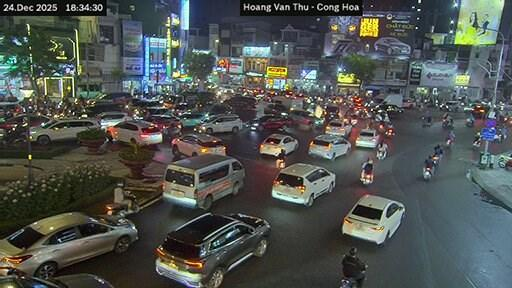motorbike: (105, 190, 137, 216), (3, 124, 25, 147), (339, 278, 357, 287), (498, 154, 511, 166), (493, 131, 505, 142), (422, 166, 431, 180), (361, 172, 371, 184), (376, 149, 386, 160), (441, 118, 453, 127), (432, 154, 441, 165), (384, 126, 394, 135), (422, 117, 431, 126), (275, 158, 284, 166), (472, 139, 480, 148), (445, 138, 453, 147), (378, 122, 384, 133), (349, 117, 357, 125), (466, 117, 473, 126)
